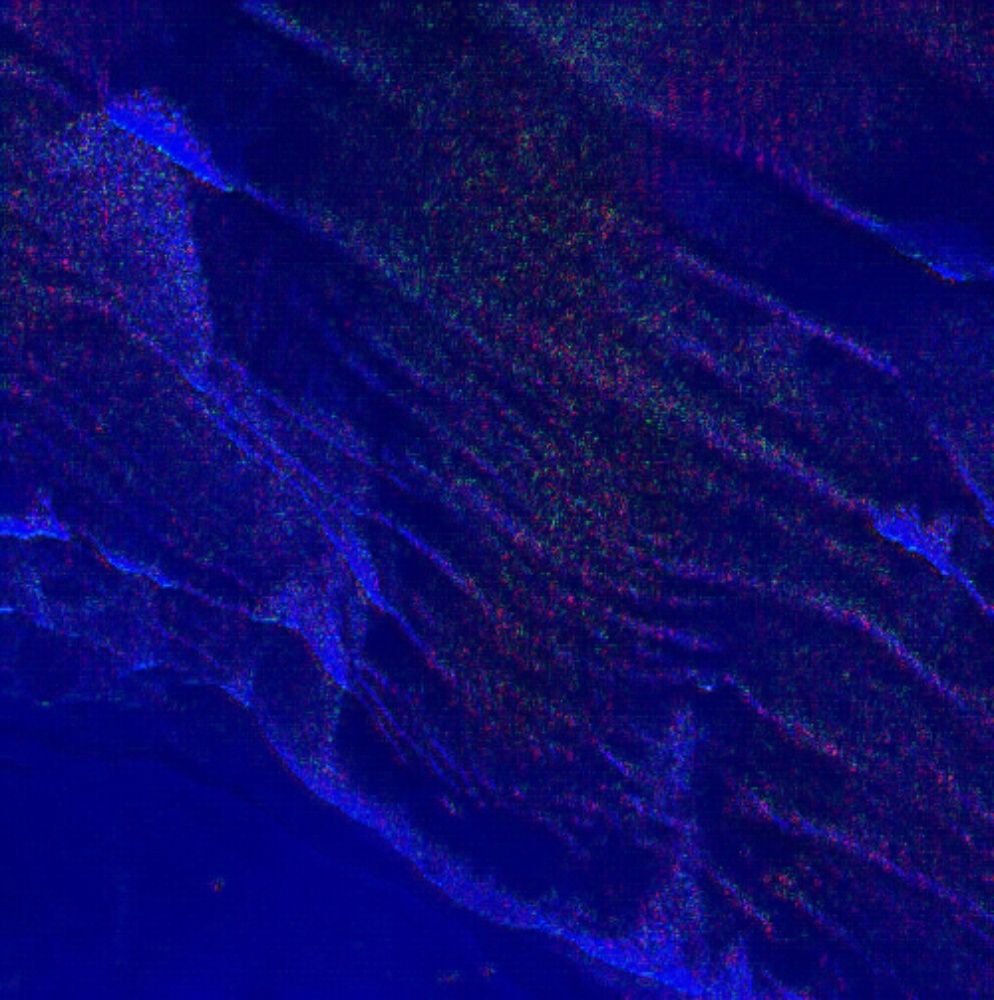rip_current: (305, 90, 710, 814)
